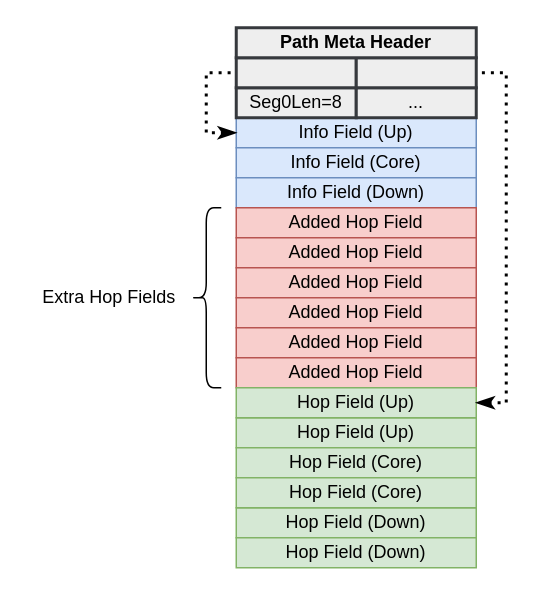
Image size: 545x594. Some labels were removed from this diagram. The shapes that lost their labels are listed below. From the top down, each one's centre as x and y in pixels, then its label:
point (295, 72): Current INF
point (415, 72): Current HF
